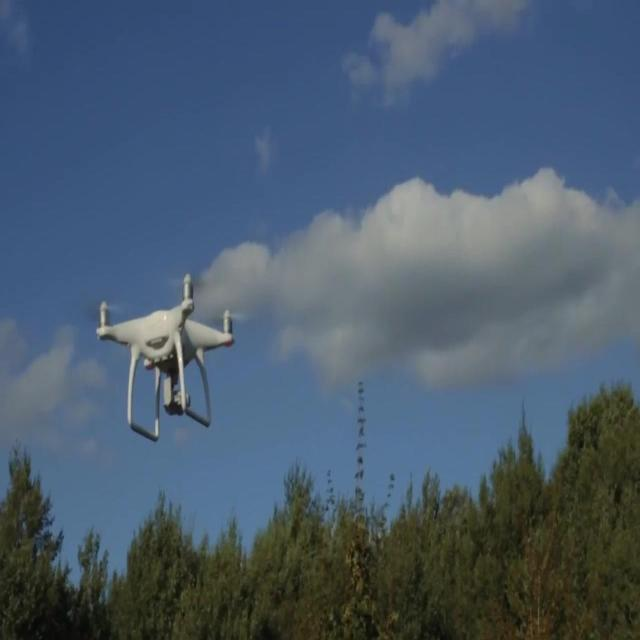drone: (96, 268, 238, 445)
